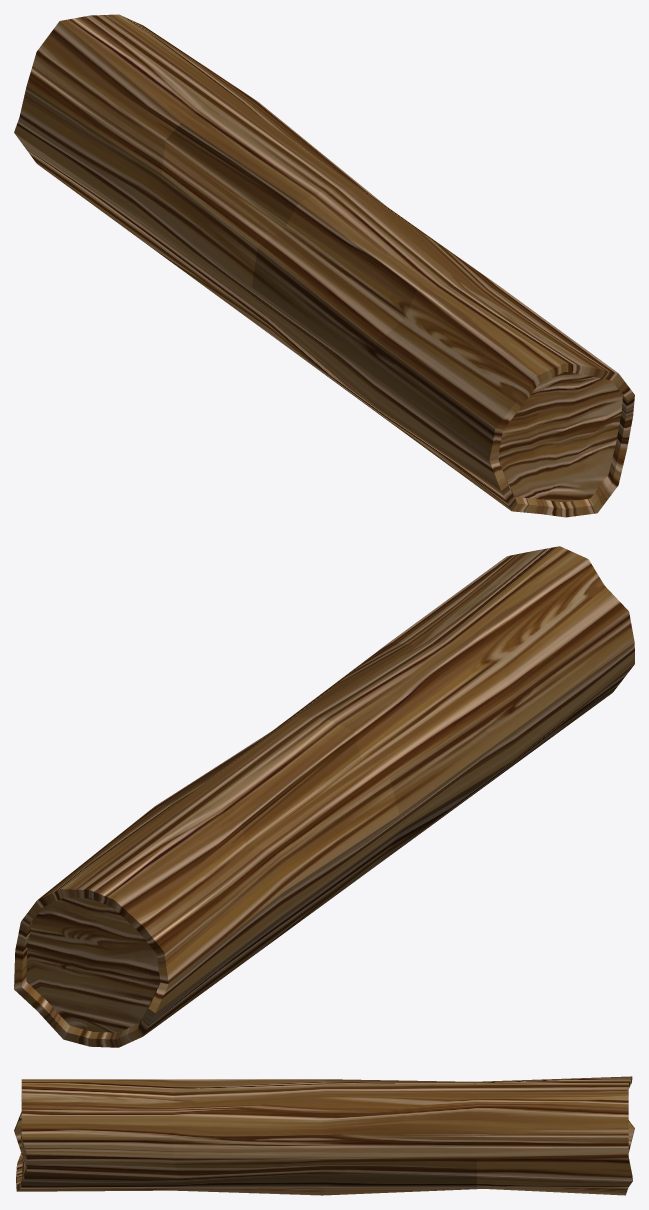
The model's file is Wood.fbx.
3 renders of one model, top to bottom at view 1: azimuth 30°, elevation 25°; view 2: azimuth 150°, elevation 25°; view 3: azimuth 270°, elevation 25°, orthographic. The views are drawn at different scales.
Visible parts, largest first — view 1: Wood; view 2: Wood; view 3: Wood.
Boxes of the visible parts, x1,y1,x2,y2 form: Wood: (14,14,634,517); Wood: (14,546,634,1047); Wood: (14,1076,634,1195).
Bounding box in the file's own units: 97.72 × 97.76 × 539.
